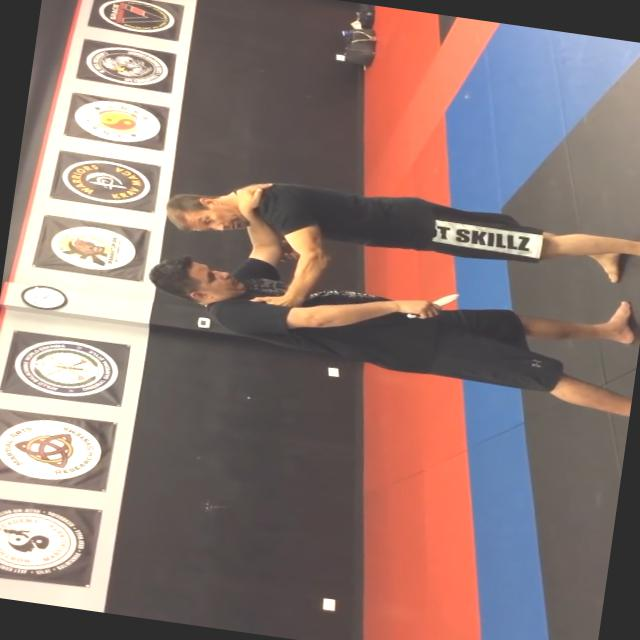knife: (402, 284, 463, 326)
